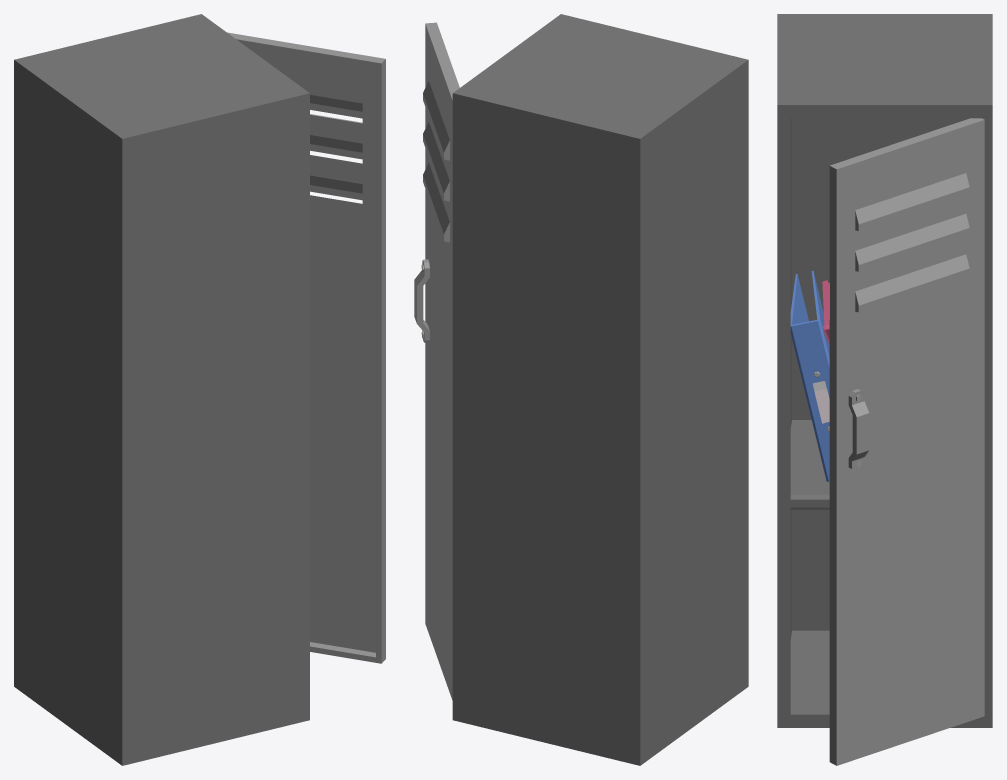
File: Open Locker.glb
The picture shows the model from 3 angles, left to right: view 1: azimuth 30°, elevation 25°; view 2: azimuth 150°, elevation 25°; view 3: azimuth 270°, elevation 25°; orthographic projection.
Visible parts, largest first — view 1: LockerMain_Cube, Door_Cube.001; view 2: LockerMain_Cube, Door_Cube.001; view 3: Door_Cube.001, LockerMain_Cube, Binder_Binder_Cube, Book_Book_Cube.001.
Boxes of the visible parts, x1,y1,x2,y2 form: LockerMain_Cube: [14, 14, 309, 765]; Door_Cube.001: [227, 32, 385, 663]; LockerMain_Cube: [452, 14, 748, 765]; Door_Cube.001: [414, 22, 459, 700]; Door_Cube.001: [829, 118, 984, 765]; LockerMain_Cube: [777, 14, 992, 727]; Binder_Binder_Cube: [790, 270, 829, 482]; Book_Book_Cube.001: [822, 280, 829, 344].
Bounding box in the file's own units: 0.392 × 0.7984 × 0.2499.
